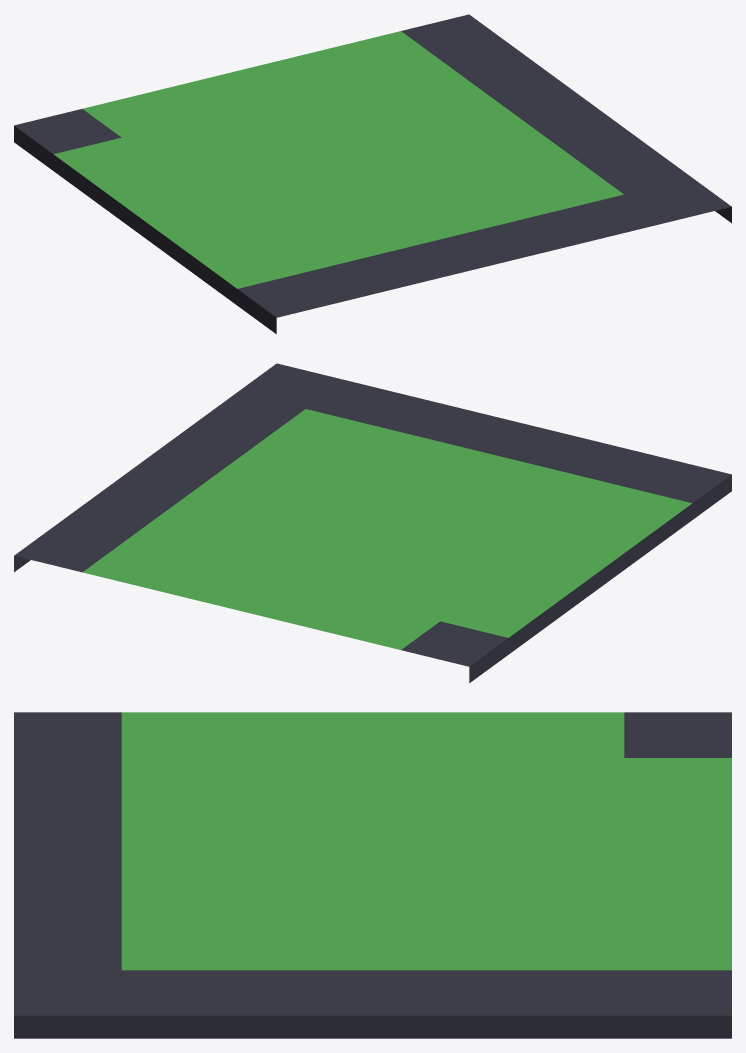
File: grass_sand2.fbx
The picture shows the model from 3 angles, top to bottom: view 1: azimuth 30°, elevation 25°; view 2: azimuth 150°, elevation 25°; view 3: azimuth 270°, elevation 25°; orthographic projection. The views are drawn at different scales.
Parts seen in each view (by area): view 1: grass_sandwich2; view 2: grass_sandwich2; view 3: grass_sandwich2.
Part boxes in pixels (x1,y1,x2,y2): grass_sandwich2: [14, 14, 731, 333]; grass_sandwich2: [14, 363, 731, 682]; grass_sandwich2: [14, 712, 731, 1038].
Bounding box in the file's own units: 1000 × 35.23 × 1000.
